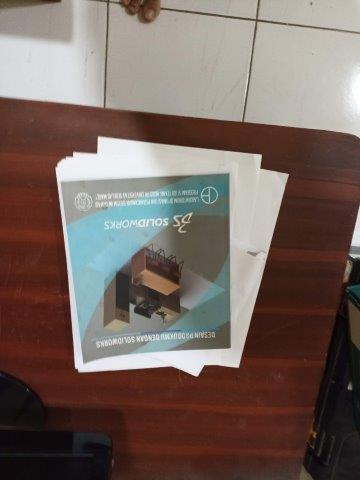kertas: (55, 136, 290, 378)
